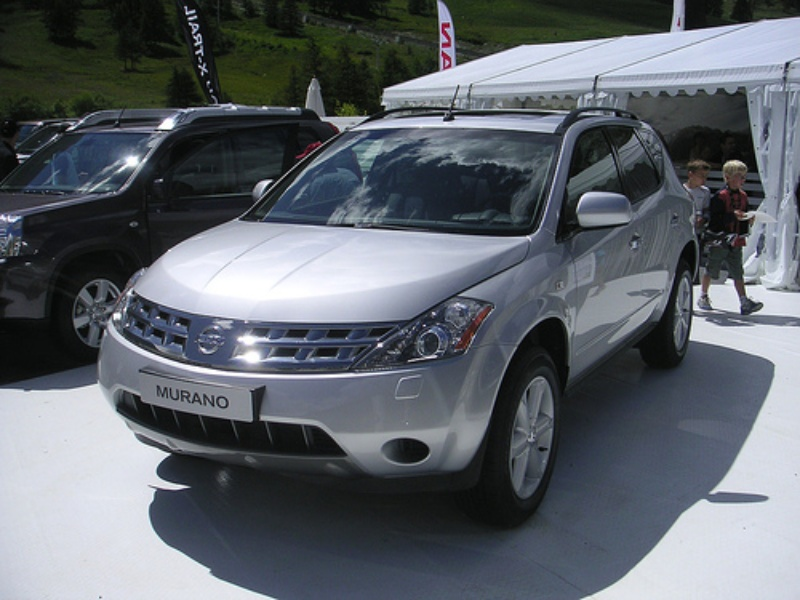car: (98, 108, 702, 527), (1, 108, 364, 361)
person: (698, 159, 762, 318), (681, 159, 711, 218)
